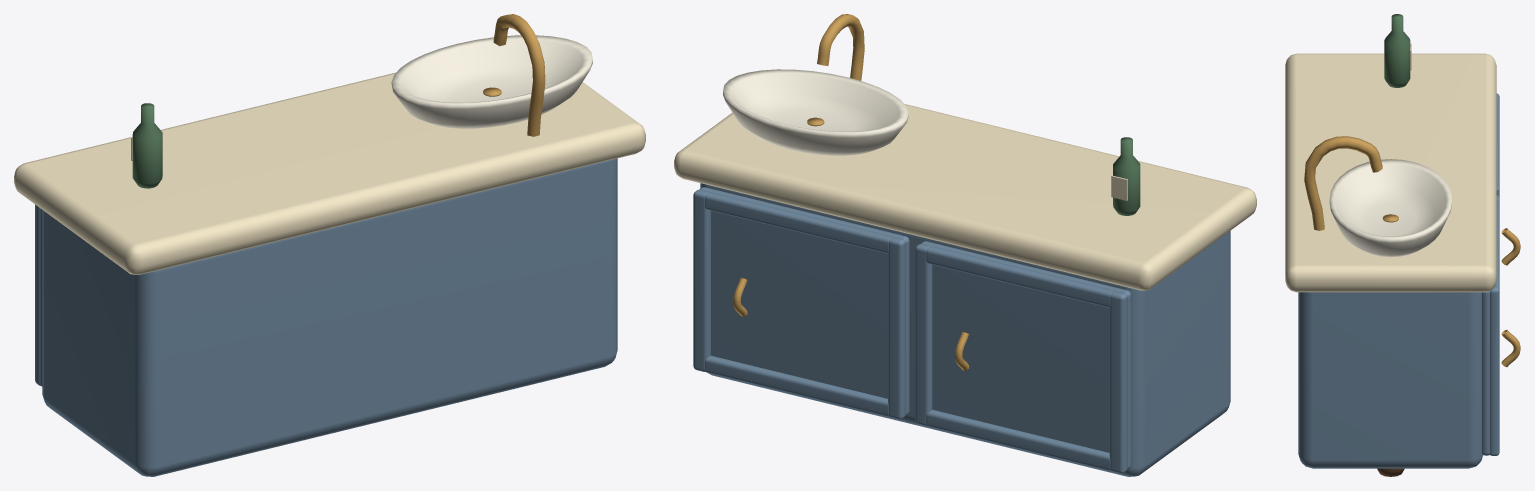
File: bath_vanity.glb
3 views of the same model, side by side, from view 1: azimuth 30°, elevation 25°; view 2: azimuth 150°, elevation 25°; view 3: azimuth 270°, elevation 25° (orthographic). The views are drawn at different scales.
Parts seen in each view (by area): view 1: House07_bath_vanity; view 2: House07_bath_vanity; view 3: House07_bath_vanity.
Part boxes in pixels (bbox=[...]): House07_bath_vanity: bbox=[14, 14, 645, 476]; House07_bath_vanity: bbox=[674, 14, 1256, 476]; House07_bath_vanity: bbox=[1285, 14, 1520, 476].
Bounding box in the file's own units: 1.6 × 1.09 × 0.7244.
